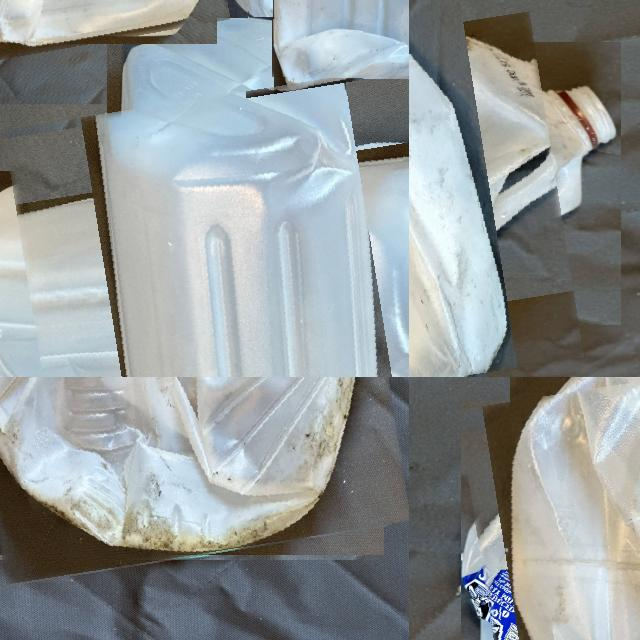milk-jug: (16, 79, 409, 377), (0, 377, 396, 571), (409, 0, 569, 377), (471, 377, 640, 640), (248, 0, 409, 78), (0, 0, 224, 53)
